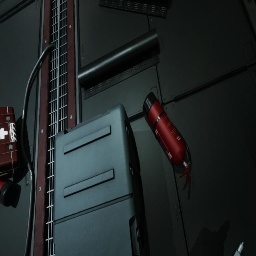0: (231, 242, 244, 256)
FireExtinguisher ]: (143, 92, 191, 188), (0, 179, 17, 207)
FirstAidBox ,: (0, 107, 22, 182)
